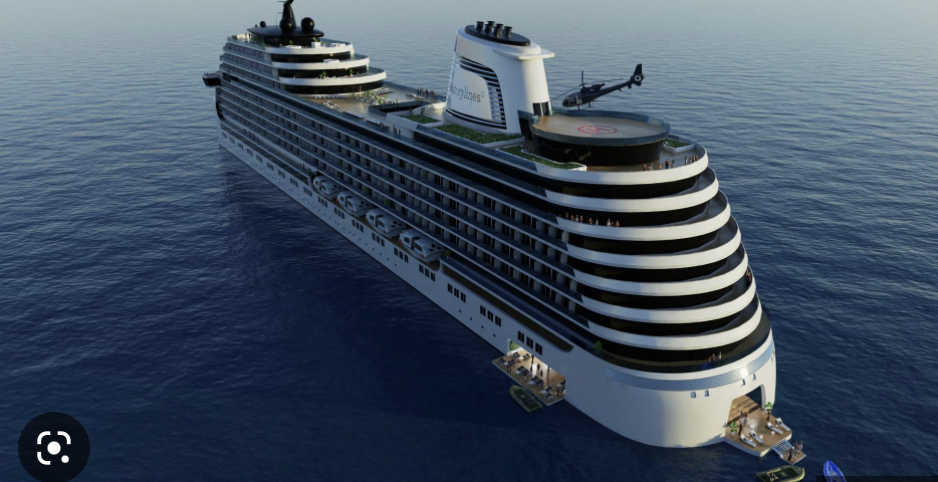ship: (184, 10, 807, 463)
